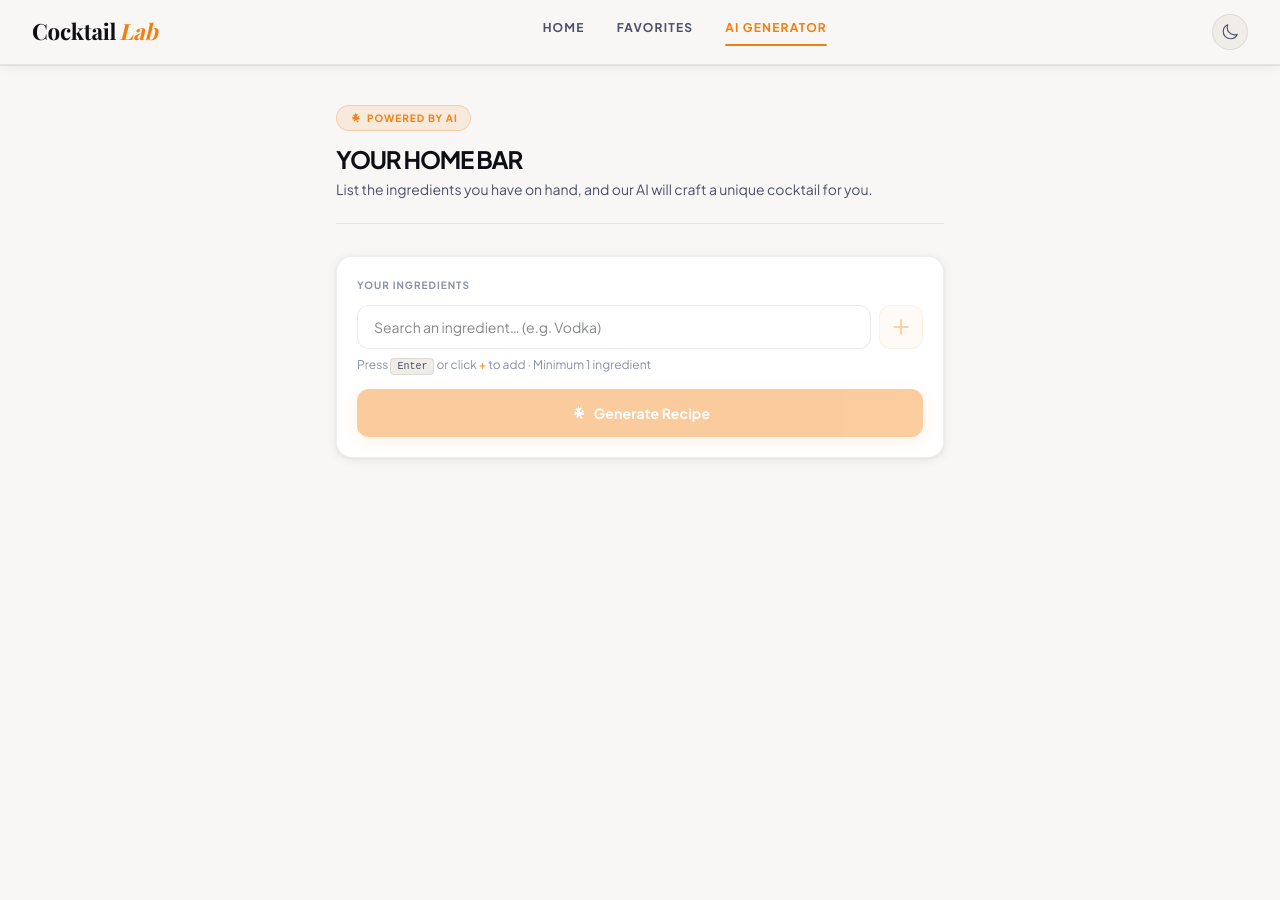
it: GenerateAI view › renders the generated recipe card after successful generation
Type "Vodka" into the field with placeholder "Search an ingredient… (e.g. Vodka)" at point(614, 327), box [357, 305, 871, 349]
Then press Enter
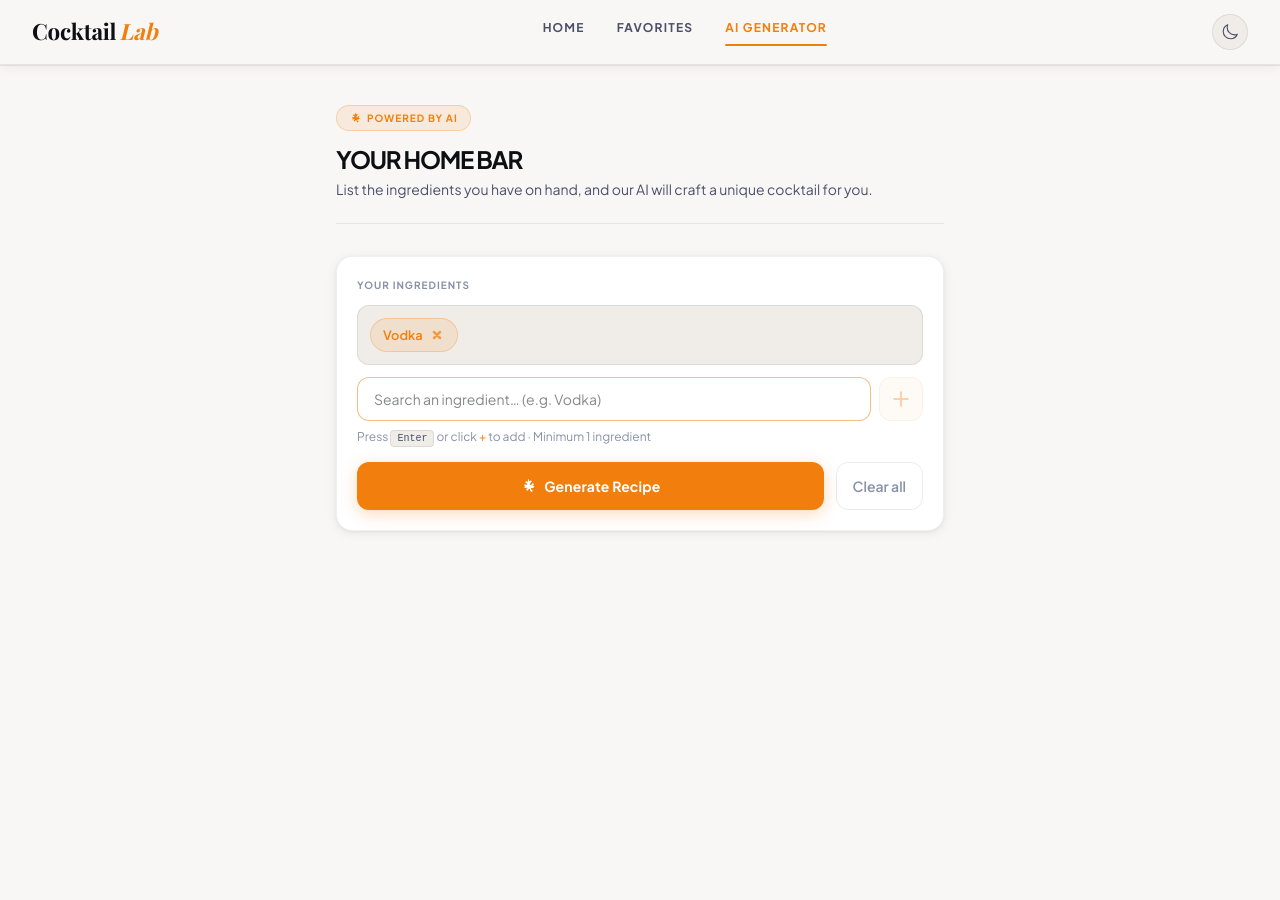
Click the button "Generate Recipe" at point(590, 486), box [357, 462, 824, 510]
(page scrolled)
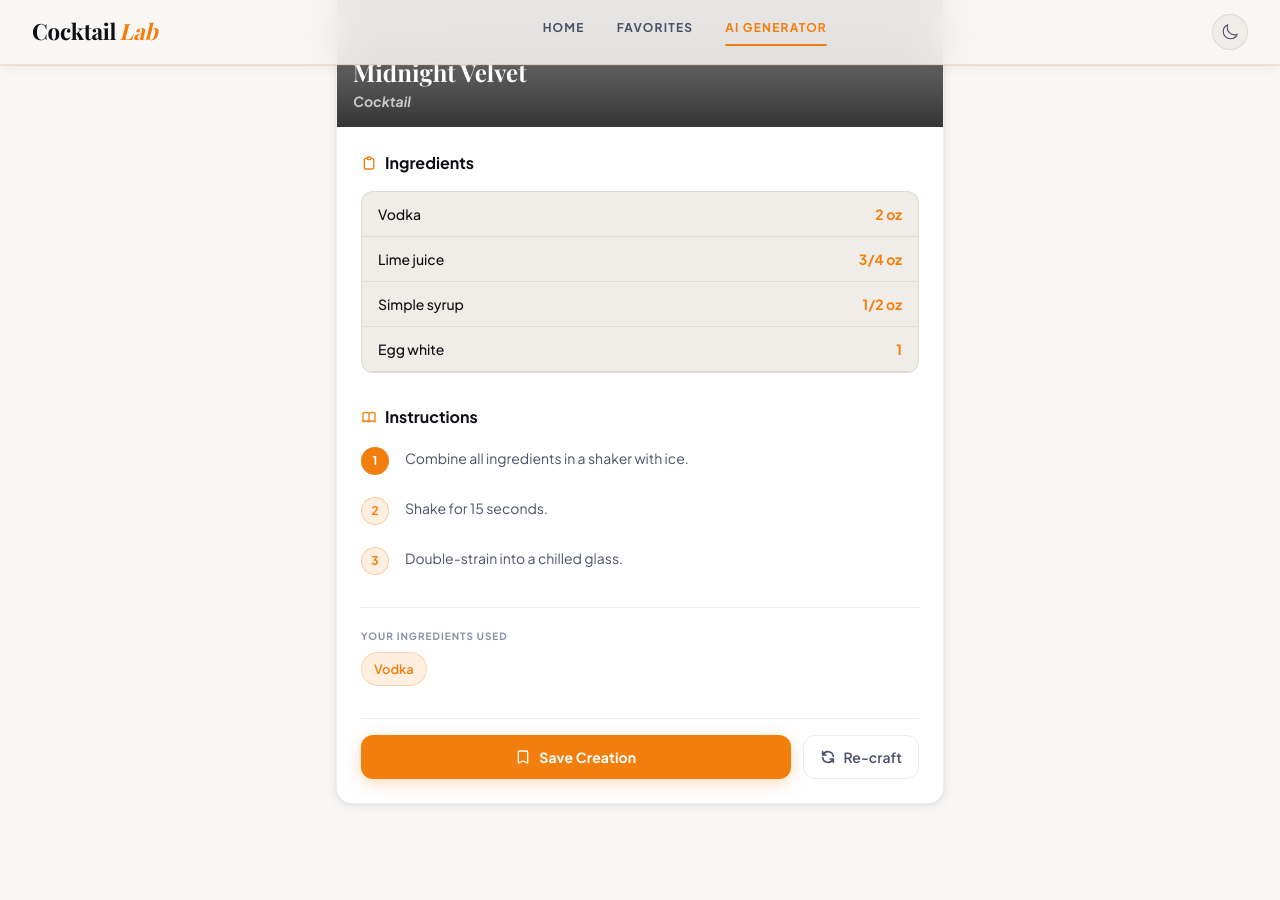
Expected: the heading "Midnight Velvet" is shown, [353, 56, 527, 88]
Expected: the element "Ingredients" is shown, [361, 151, 919, 373]
Expected: the element "Instructions" is shown, [361, 406, 689, 575]
